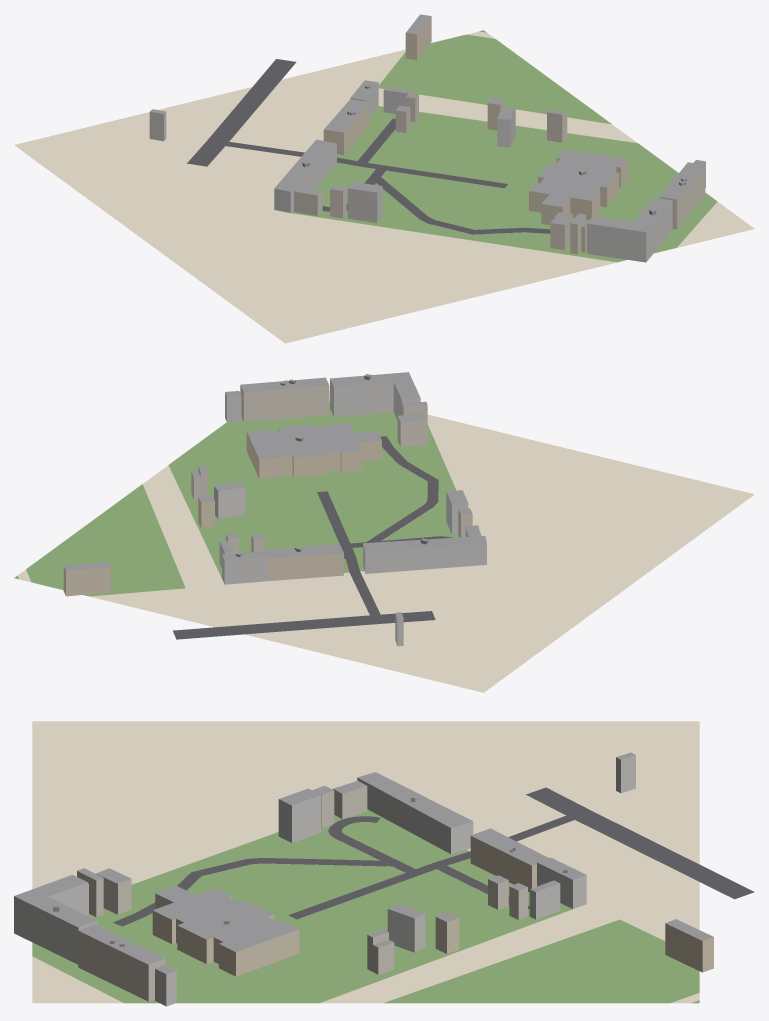
Rendered from tile_2_-5_far.glb.
The picture shows the model from 3 angles, top to bottom: view 1: azimuth 30°, elevation 25°; view 2: azimuth 150°, elevation 25°; view 3: azimuth 270°, elevation 25°; orthographic projection. The views are drawn at different scales.
Parts seen in each view (by area): view 1: nature_ground, nature_grass, buildings_roof, buildings_concrete_light, roads_asphalt, buildings_concrete_warm, buildings_sandstone; view 2: nature_ground, nature_grass, buildings_roof, buildings_concrete_light, buildings_sandstone, roads_asphalt, buildings_concrete_warm; view 3: nature_ground, nature_grass, buildings_roof, buildings_concrete_light, roads_asphalt, buildings_sandstone, buildings_concrete_warm.
Boxes of the visible parts, <box> form: nature_ground: <box>14,31,754,343</box>; nature_grass: <box>291,30,717,262</box>; buildings_roof: <box>150,14,705,231</box>; buildings_concrete_light: <box>149,83,705,262</box>; roads_asphalt: <box>187,59,550,234</box>; buildings_concrete_warm: <box>294,94,705,254</box>; buildings_sandstone: <box>323,16,627,252</box>; nature_ground: <box>15,379,754,692</box>; nature_grass: <box>14,401,458,596</box>; buildings_roof: <box>64,372,486,618</box>; buildings_concrete_light: <box>214,379,486,646</box>; buildings_sandstone: <box>63,425,381,596</box>; roads_asphalt: <box>173,436,452,639</box>; buildings_concrete_warm: <box>191,385,480,553</box>; nature_ground: <box>32,721,699,1003</box>; nature_grass: <box>32,809,699,1003</box>; buildings_roof: <box>14,752,713,974</box>; buildings_concrete_light: <box>14,755,635,1006</box>; roads_asphalt: <box>113,787,754,926</box>; buildings_sandstone: <box>88,836,713,976</box>; buildings_concrete_warm: <box>77,786,527,1001</box>.
Size of the model in its own units: 253 by 17.31 by 278.
